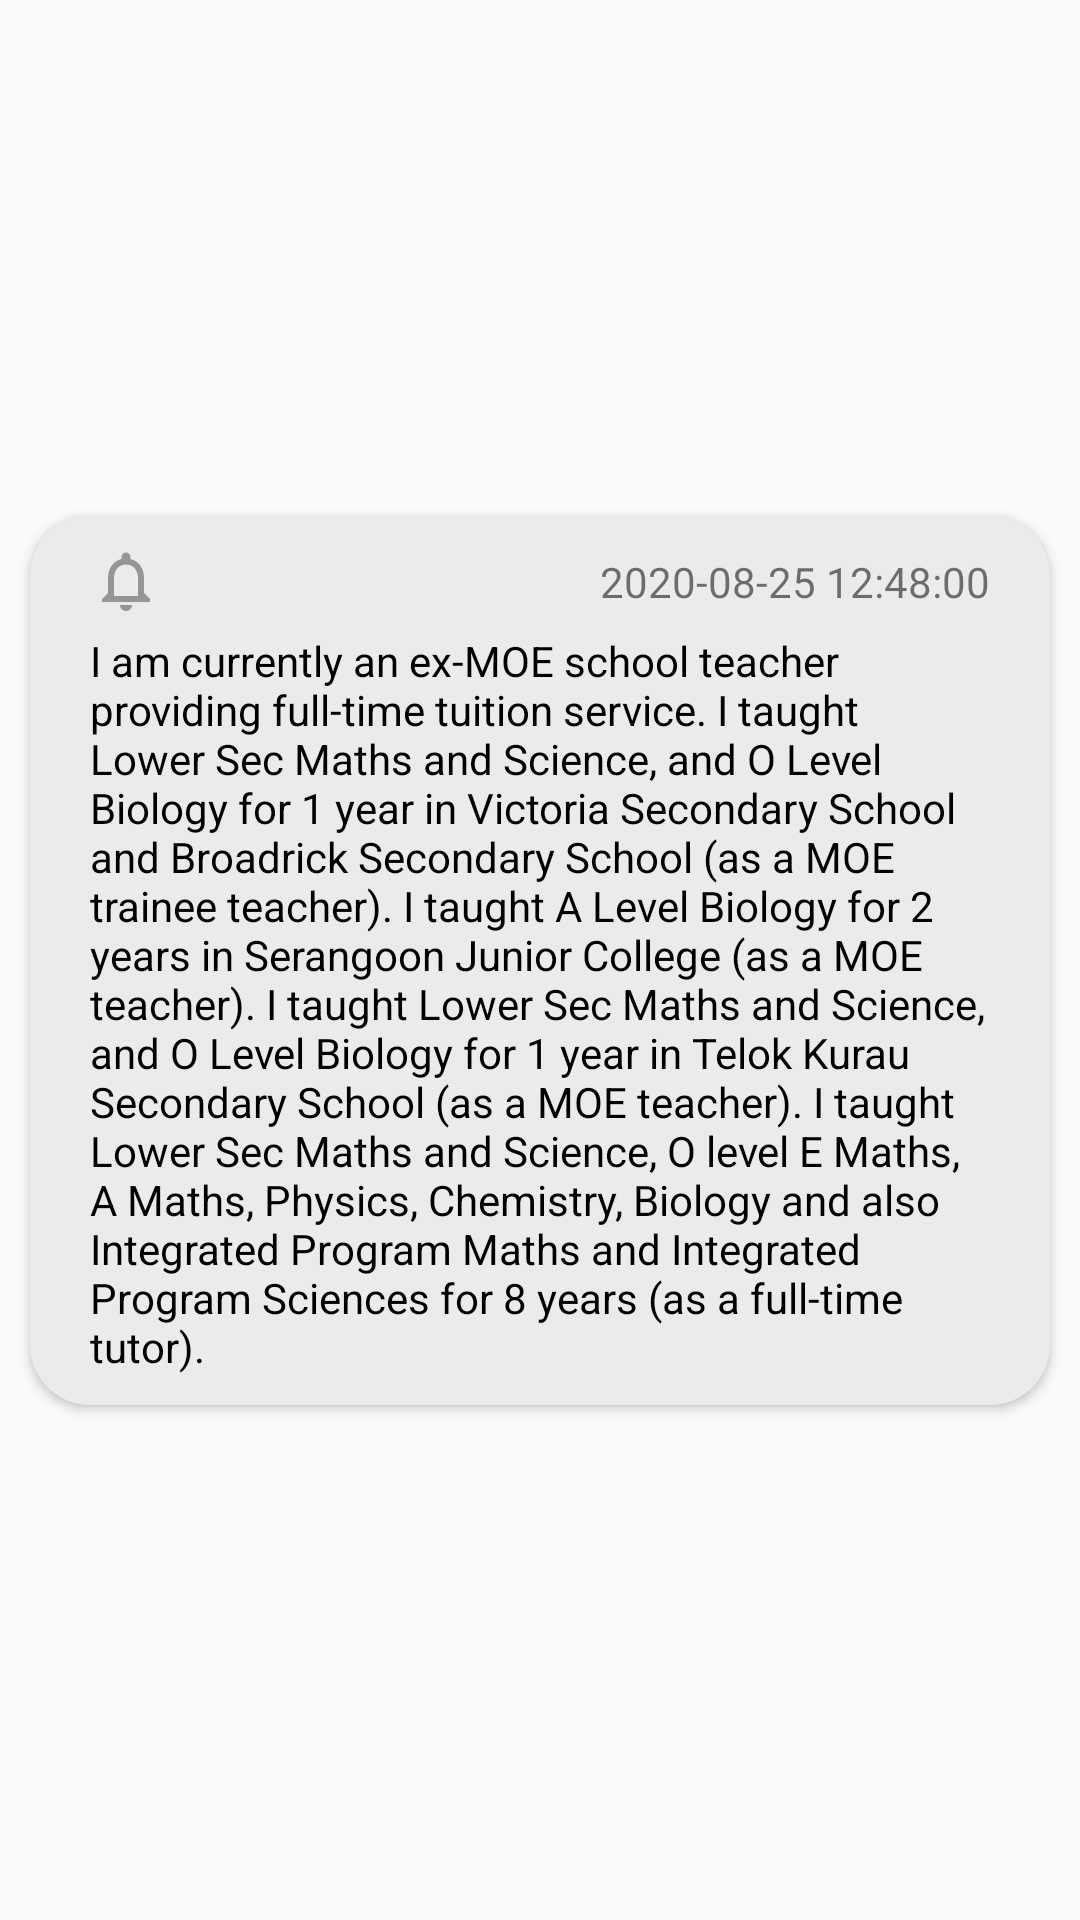

Icons on this 1080 x 1920 Android screen, each with the point to tap as (x=x, y=y):
Notification: (x=126, y=581)
